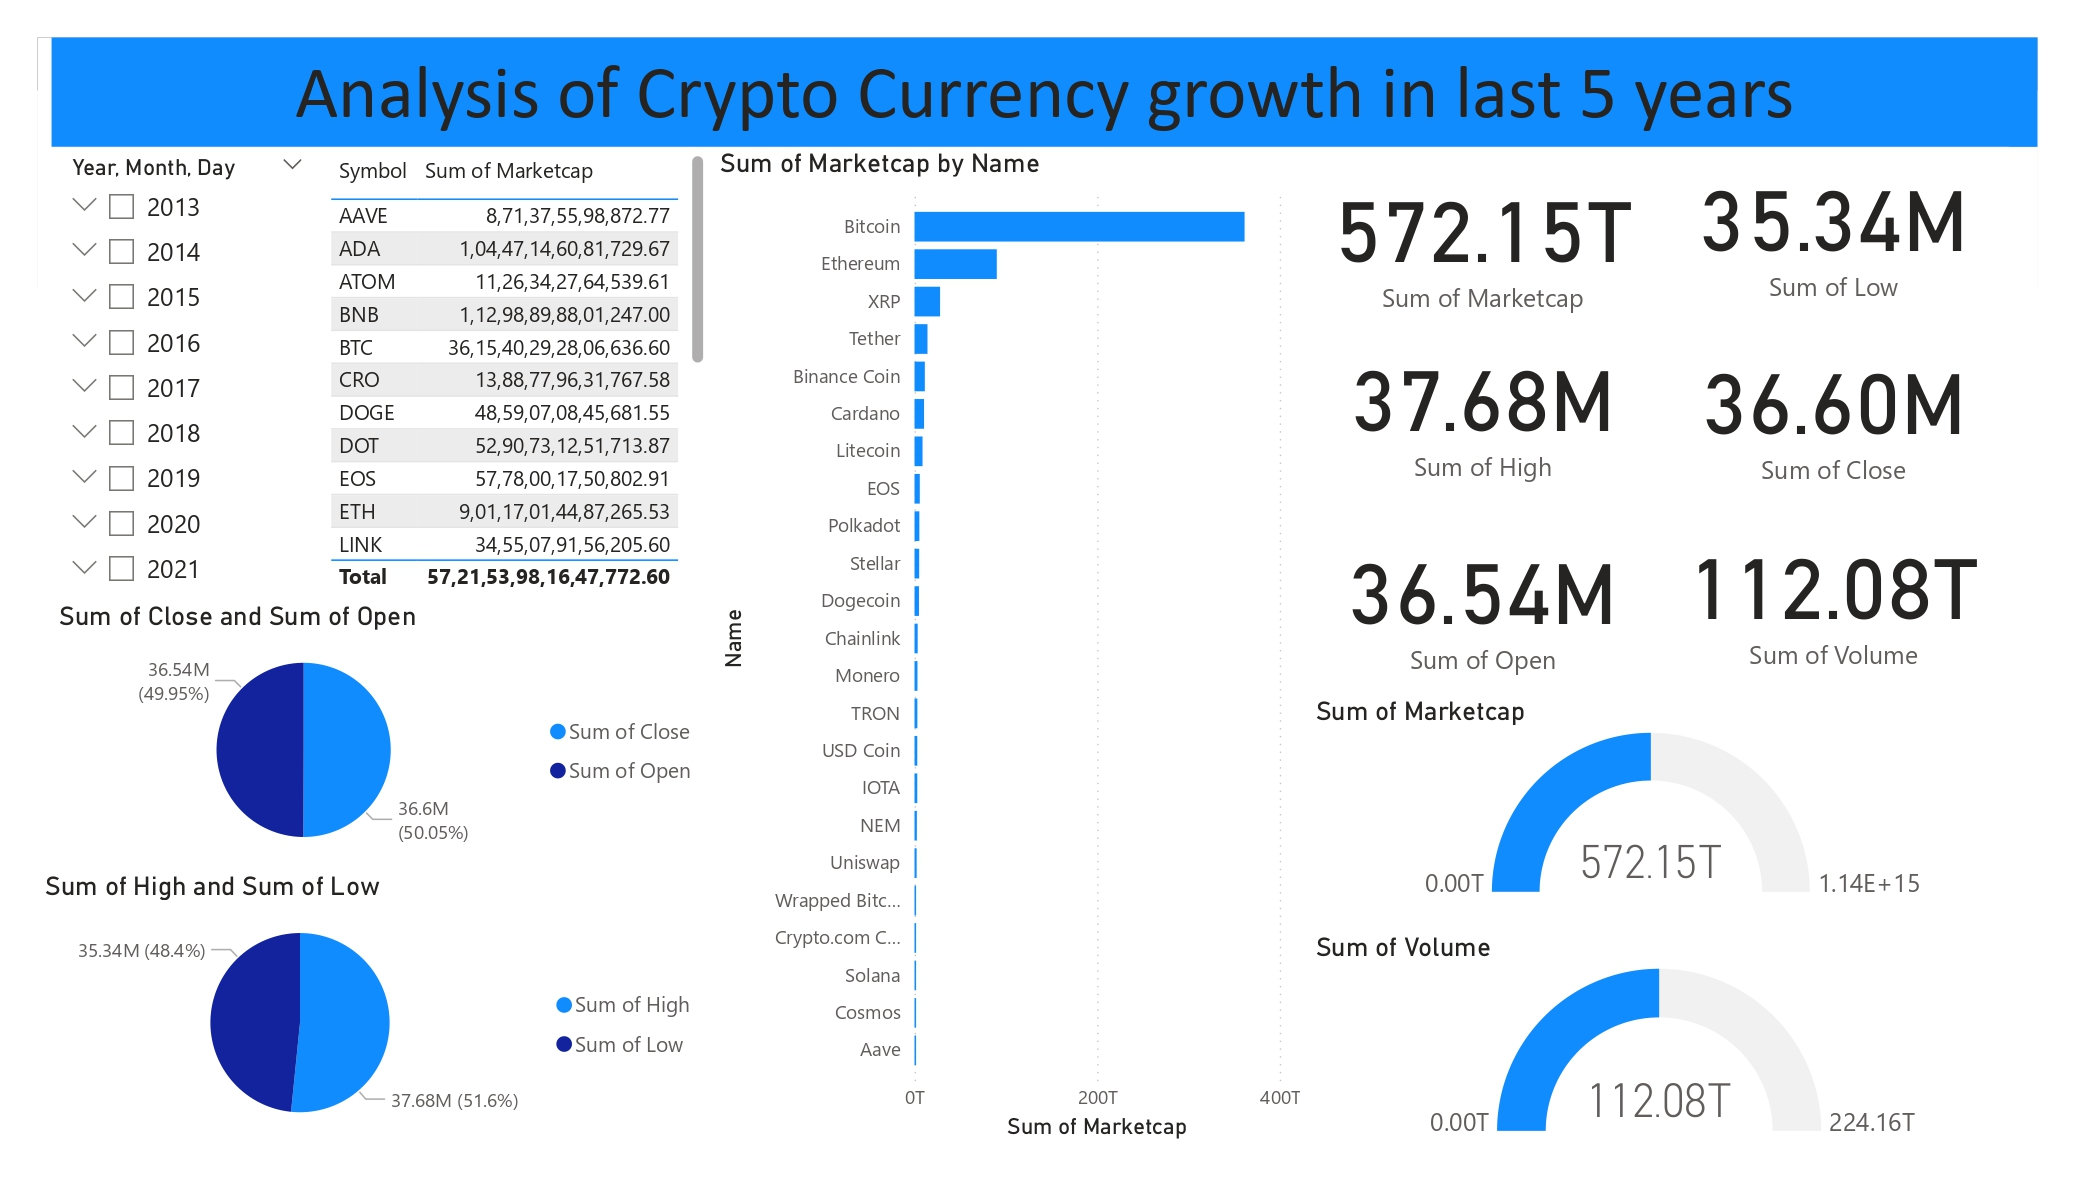

This screenshot's page, from the dashboard's own definition file:
{"tool":"powerbi","page":{"name":"Page 1","canvas":[1280,720],"ordinal":0},"visuals":[{"type":"textbox","box":[9.4,0,1271.1,70.2],"z":0},{"type":"slicer","fields":{"Values":["CryptoData.Date.Variation.Date Hierarchy.Year","CryptoData.Date.Variation.Date Hierarchy.Month","CryptoData.Date.Variation.Date Hierarchy.Day"]},"box":[9.4,70.2,173.1,290.1],"z":1000},{"type":"pieChart","fields":{"Y":["Sum(CryptoData.Close)","Sum(CryptoData.Open)"]},"box":[9.4,360.3,422.6,173.1],"z":2000},{"type":"pieChart","fields":{"Y":["Sum(CryptoData.High)","Sum(CryptoData.Low)"]},"box":[0,533.4,432,176.2],"z":3000},{"type":"tableEx","fields":{"Values":["CryptoData.Symbol","Sum(CryptoData.Marketcap)"]},"box":[182.5,70.2,249.5,290.1],"z":4000},{"type":"clusteredBarChart","fields":{"Y":["Sum(CryptoData.Marketcap)"],"Category":["CryptoData.Name"]},"box":[432,70.2,380.5,639.4],"z":5000},{"type":"card","fields":{"Values":["Sum(CryptoData.Marketcap)"]},"box":[812.5,70.2,224.6,115.4],"z":6000},{"type":"card","fields":{"Values":["Sum(CryptoData.Low)"]},"box":[1037.1,70.2,224.6,101.4],"z":7000},{"type":"card","fields":{"Values":["Sum(CryptoData.High)"]},"box":[812.5,182.5,224.6,107.6],"z":8000},{"type":"card","fields":{"Values":["Sum(CryptoData.Close)"]},"box":[1037.1,185.6,224.6,104.5],"z":9000},{"type":"card","fields":{"Values":["Sum(CryptoData.Open)"]},"box":[812.5,299.4,224.6,121.6],"z":10000},{"type":"card","fields":{"Values":["Sum(CryptoData.Volume)"]},"box":[1037.1,297.9,224.6,117],"z":11000},{"type":"gauge","fields":{"Y":["Sum(CryptoData.Marketcap)"]},"box":[812.5,421.1,467.9,135.7],"z":12000},{"type":"gauge","fields":{"Y":["Sum(CryptoData.Volume)"]},"box":[812.5,572.4,467.9,137.2],"z":13000}]}

Visuals, with their boxes in screenshot pixels (x1, y1, x2, y2):
textbox: <region>52, 38, 2038, 147</region>
slicer - CryptoData.Date.Variation.Date Hierarchy.Year x CryptoData.Date.Variation.Date Hierarchy.Month: <region>52, 147, 323, 600</region>
pieChart - Sum(CryptoData.Close) x Sum(CryptoData.Open): <region>52, 600, 712, 871</region>
pieChart - Sum(CryptoData.High) x Sum(CryptoData.Low): <region>38, 871, 712, 1146</region>
tableEx - CryptoData.Symbol x Sum(CryptoData.Marketcap): <region>323, 147, 712, 600</region>
clusteredBarChart - Sum(CryptoData.Marketcap) x CryptoData.Name: <region>712, 147, 1307, 1146</region>
card - Sum(CryptoData.Marketcap): <region>1307, 147, 1658, 328</region>
card - Sum(CryptoData.Low): <region>1658, 147, 2009, 306</region>
card - Sum(CryptoData.High): <region>1307, 323, 1658, 491</region>
card - Sum(CryptoData.Close): <region>1658, 328, 2009, 491</region>
card - Sum(CryptoData.Open): <region>1307, 505, 1658, 695</region>
card - Sum(CryptoData.Volume): <region>1658, 503, 2009, 686</region>
gauge - Sum(CryptoData.Marketcap): <region>1307, 695, 2038, 907</region>
gauge - Sum(CryptoData.Volume): <region>1307, 932, 2038, 1146</region>
